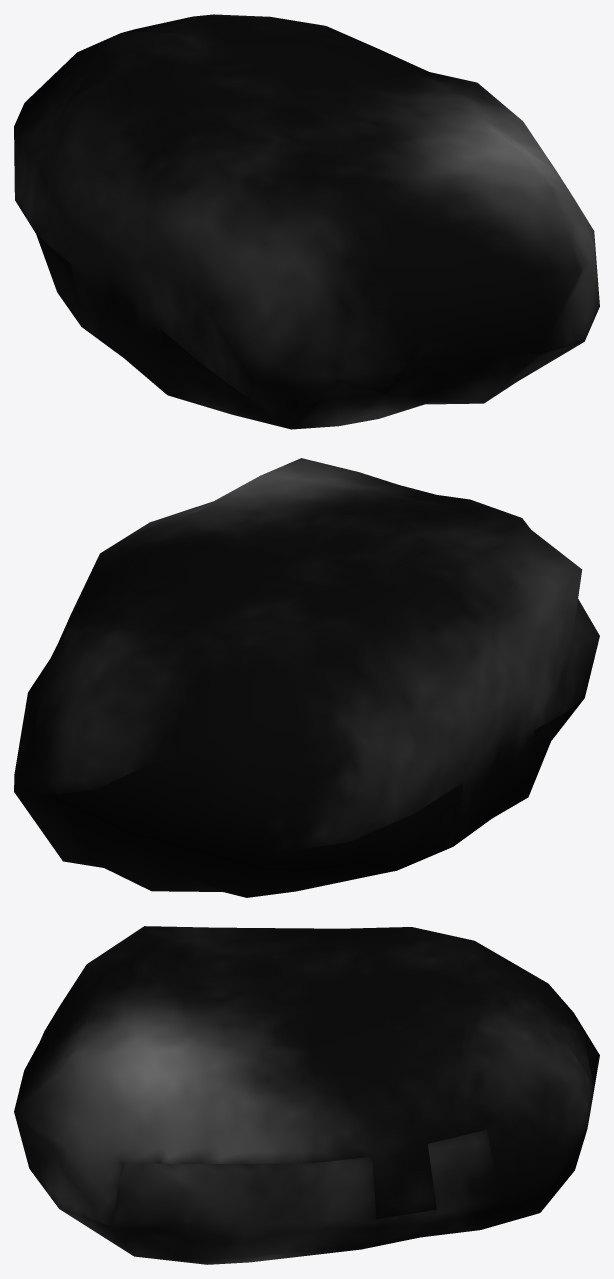
File: SM_rock_small_03.fbx
The picture shows the model from 3 angles, top to bottom: view 1: azimuth 30°, elevation 25°; view 2: azimuth 150°, elevation 25°; view 3: azimuth 270°, elevation 25°; orthographic projection. The views are drawn at different scales.
Visible parts, largest first — view 1: SM_rock_small_03_LOD0; view 2: SM_rock_small_03_LOD0; view 3: SM_rock_small_03_LOD0.
Part boxes in pixels (x1,y1,x2,y2): SM_rock_small_03_LOD0: (14, 14, 599, 429); SM_rock_small_03_LOD0: (14, 458, 599, 897); SM_rock_small_03_LOD0: (14, 926, 599, 1264).
Bounding box in the file's own units: 46.64 × 65.37 × 29.01.
